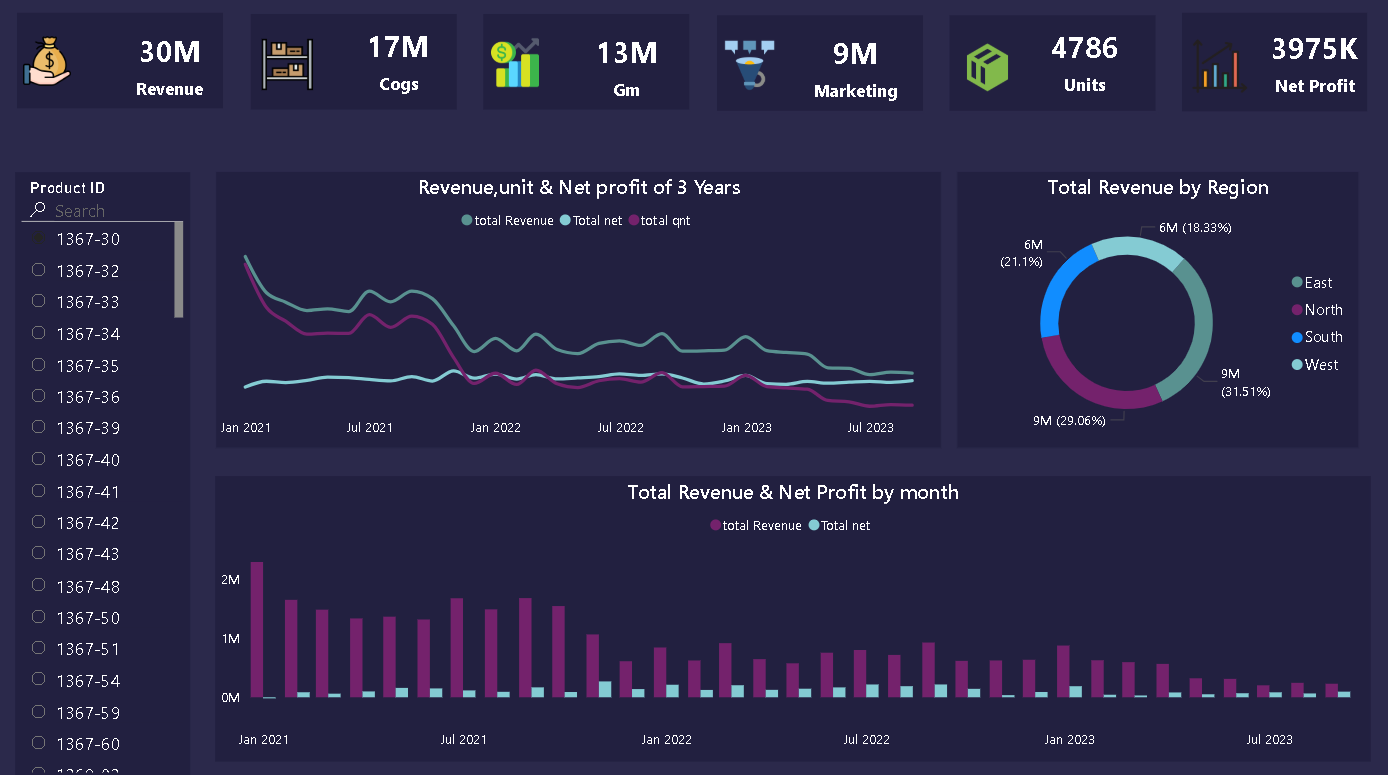

The dashboard page shown, as its layout file describes it:
{"tool":"powerbi","page":{"name":"Marketing dashboard","canvas":[1280,720],"ordinal":0},"visuals":[{"type":"shape","box":[15.1,13.7,193.5,91.9],"z":500},{"type":"lineClusteredColumnComboChart","title":"Total Revenue & Net Profit by month","fields":{"Category":["calander.Month-yy"],"Y":["factsales.total Revenue","factsales.Total net"]},"box":[199,441.9,1062.1,262.1],"z":1000},{"type":"card","fields":{"Values":["factsales.total Revenue"]},"box":[105.7,17.8,102.9,87.8],"z":1500},{"type":"lineChart","title":"Revenue,unit & Net profit of 3 Years","fields":{"Y":["factsales.total Revenue","factsales.Total net"],"Y2":["factsales.total qnt"],"Category":["calander.Month-yy"]},"box":[198.7,160.8,668.3,255.2],"z":2000},{"type":"donutChart","title":"Total Revenue by Region","fields":{"Y":["factsales.total Revenue"],"Category":["factsales.Region"]},"box":[881,160.5,370.5,255.2],"z":3000},{"type":"slicer","fields":{"Values":["dimproduct.Product ID"]},"box":[15.1,161.9,160.5,558.5],"z":4000},{"type":"shape","box":[229.4,14.8,193.5,91.9],"z":6000},{"type":"shape","box":[443.8,15.4,193.5,91.9],"z":7000},{"type":"shape","box":[658.1,15.9,193.5,91.9],"z":8000},{"type":"shape","box":[872.5,16.5,193.5,91.9],"z":9000},{"type":"shape","box":[1086.8,13.7,174.3,94.7],"z":10000},{"type":"card","fields":{"Values":["factsales.Total cogs"]},"box":[316.2,13.7,102.9,87.8],"z":10001},{"type":"card","fields":{"Values":["factsales.Total Gm"]},"box":[526.7,19.2,102.9,87.8],"z":10002},{"type":"card","fields":{"Values":["factsales.Total Marketing"]},"box":[737.2,20.6,102.9,87.8],"z":10003},{"type":"card","fields":{"Values":["factsales.total qnt"]},"box":[947.7,15.1,102.9,87.8],"z":10004},{"type":"card","fields":{"Values":["factsales.Total net"]},"box":[1158.2,16.5,102.9,87.8],"z":10005},{"type":"image","box":[15.5,31.8,59.1,55.5],"z":10006},{"type":"image","box":[237.3,31.8,57.3,60.9],"z":10007},{"type":"image","box":[443.6,26.4,61.8,69.1],"z":10008},{"type":"image","box":[658.2,31.8,63.6,63.6],"z":10009},{"type":"image","box":[878.2,35.5,60.9,60],"z":10010},{"type":"image","box":[1086.2,35,72.5,60],"z":10011}]}

Visuals, with their boxes in screenshot pixels (x1, y1, x2, y2), scaled from the page's 1280x720 canvas onto the 1388x775 screenshot:
shape: l=16, t=15, r=226, b=114
"Total Revenue & Net Profit by month" lineClusteredColumnComboChart: l=216, t=476, r=1368, b=758
card - factsales.total Revenue: l=115, t=19, r=226, b=114
"Revenue,unit & Net profit of 3 Years" lineChart: l=215, t=173, r=940, b=448
"Total Revenue by Region" donutChart: l=955, t=173, r=1357, b=447
slicer - dimproduct.Product ID: l=16, t=174, r=190, b=774
shape: l=249, t=16, r=459, b=115
shape: l=481, t=17, r=691, b=115
shape: l=714, t=17, r=923, b=116
shape: l=946, t=18, r=1156, b=117
shape: l=1178, t=15, r=1368, b=117
card - factsales.Total cogs: l=343, t=15, r=454, b=109
card - factsales.Total Gm: l=571, t=21, r=683, b=115
card - factsales.Total Marketing: l=799, t=22, r=911, b=117
card - factsales.total qnt: l=1028, t=16, r=1139, b=111
card - factsales.Total net: l=1256, t=18, r=1368, b=112
image: l=17, t=34, r=81, b=94
image: l=257, t=34, r=319, b=100
image: l=481, t=28, r=548, b=103
image: l=714, t=34, r=783, b=103
image: l=952, t=38, r=1018, b=103
image: l=1178, t=38, r=1256, b=102
